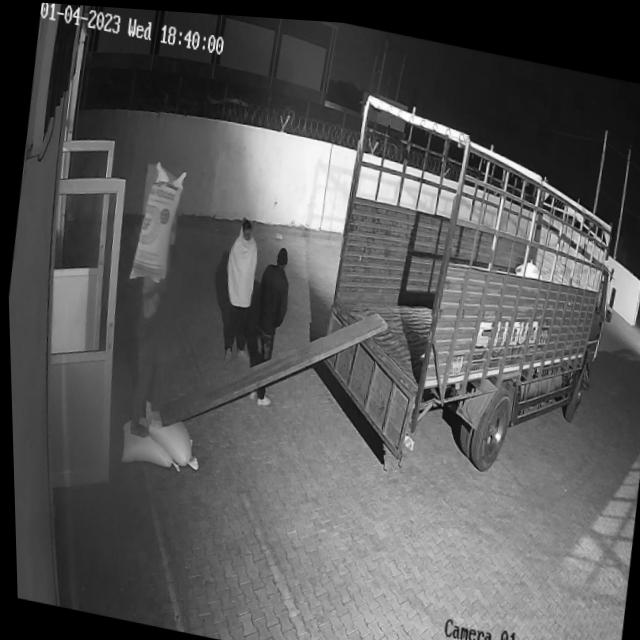sack: (123, 154, 190, 288), (135, 397, 196, 467), (114, 413, 183, 472)
